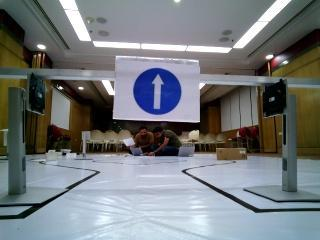straight: (112, 55, 200, 118)
